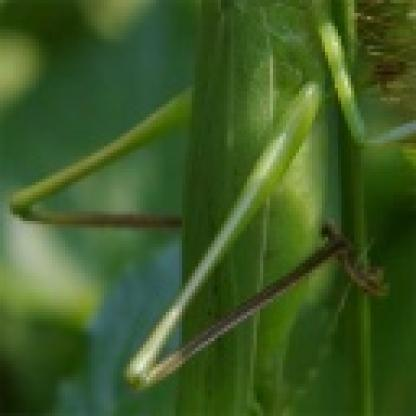grasshopper: (6, 4, 406, 416)
